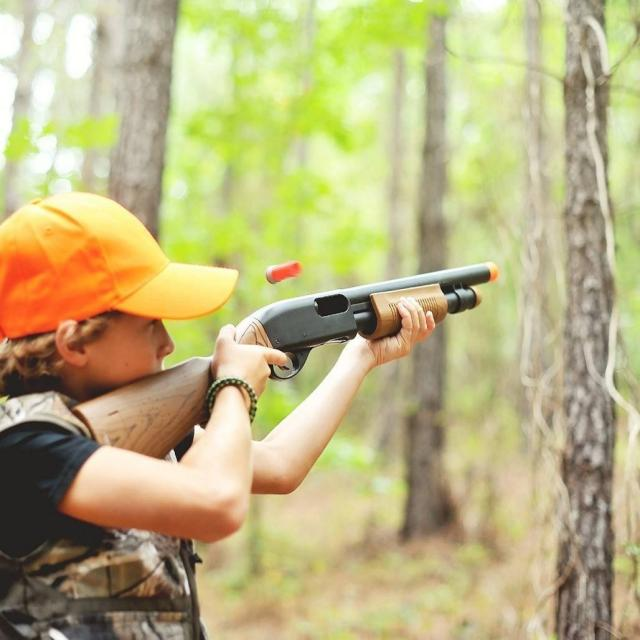ShotGun: (72, 263, 494, 459)
